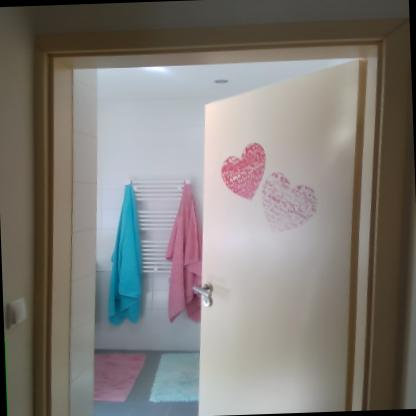semi: (31, 14, 403, 415)
